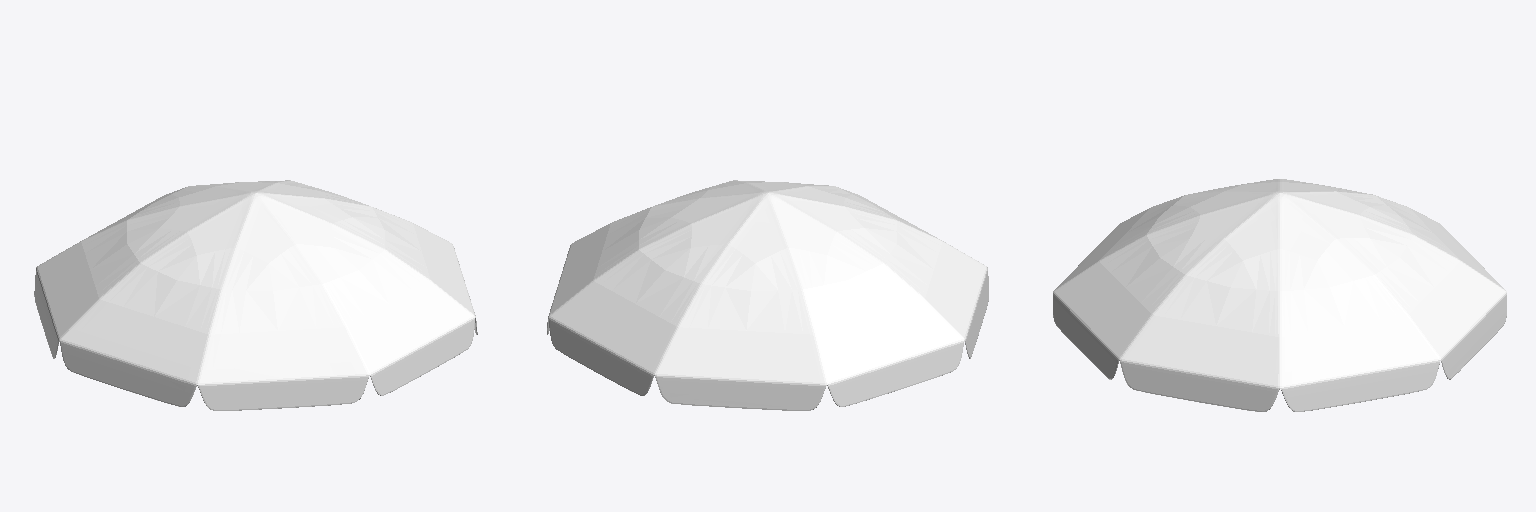
Rendered from sombrilla.obj.
3 views of the same model, side by side, from view 1: azimuth 30°, elevation 25°; view 2: azimuth 150°, elevation 25°; view 3: azimuth 270°, elevation 25° (orthographic).
Visible parts, largest first — view 1: umbrella; view 2: umbrella; view 3: umbrella.
Part boxes in pixels (left/top/right/bottom): umbrella: left=34, top=180, right=477, bottom=410; umbrella: left=547, top=180, right=988, bottom=410; umbrella: left=1053, top=179, right=1506, bottom=411.
Size of the model in its own units: 16.45 by 5.02 by 16.45.